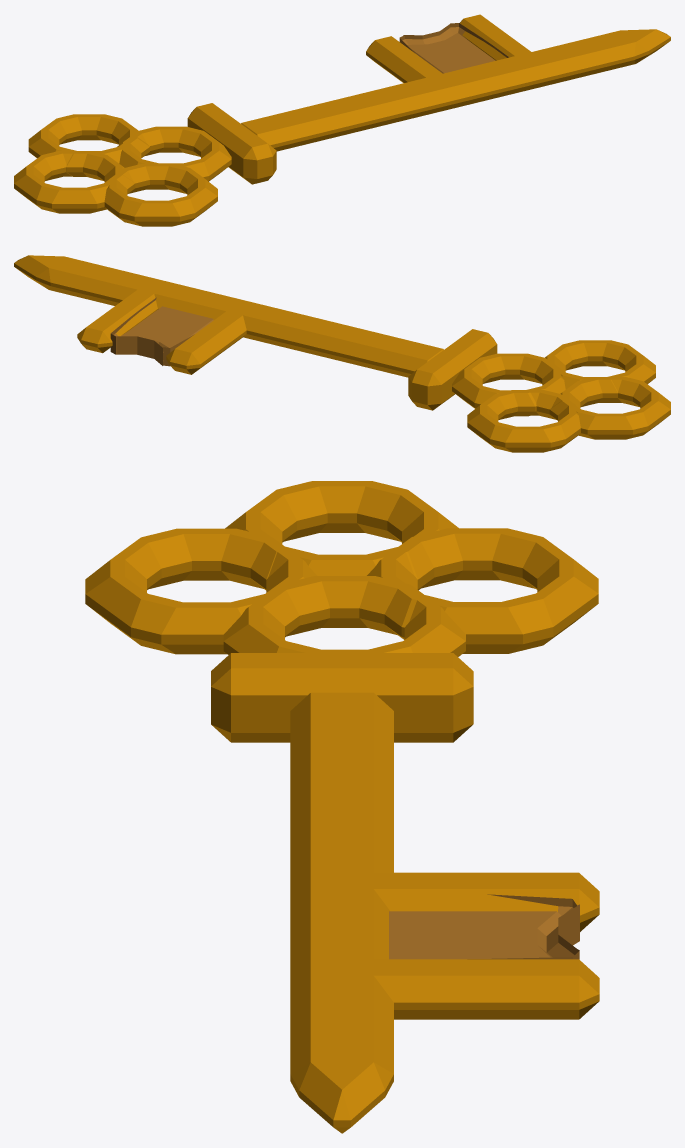
File: key.fbx
3 renders of one model, top to bottom at view 1: azimuth 30°, elevation 25°; view 2: azimuth 150°, elevation 25°; view 3: azimuth 270°, elevation 25°, orthographic. The views are drawn at different scales.
Parts seen in each view (by area): view 1: 실린더, 큐브.001, 큐브, 큐브.004, 큐브.002, 큐브.003; view 2: 실린더, 큐브.001, 큐브, 큐브.004, 큐브.002, 큐브.003; view 3: 실린더, 큐브.001, 큐브, 큐브.003, 큐브.004, 큐브.002.
Part boxes in pixels (x1,y1,x2,y2): 실린더: (14,114,231,226); 큐브.001: (241,29,670,151); 큐브: (187,103,276,184); 큐브.004: (399,23,508,73); 큐브.002: (366,36,448,82); 큐브.003: (459,14,537,60); 실린더: (452,340,670,452); 큐브.001: (14,255,443,377); 큐브: (408,329,497,410); 큐브.004: (110,297,213,366); 큐브.002: (166,307,248,374); 큐브.003: (77,285,159,353); 실린더: (85,481,598,656); 큐브.001: (290,692,393,1133); 큐브: (211,653,473,742); 큐브.003: (349,959,599,1019); 큐브.004: (389,894,579,959); 큐브.002: (349,872,599,931).
Size of the model in its own units: 1131 by 62.47 by 391.
